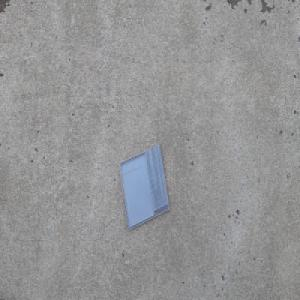PlasticPart: (118, 143, 170, 232)
